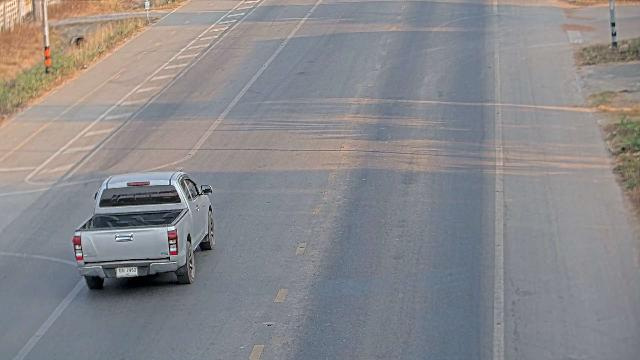pickup-truck: (71, 169, 216, 290)
